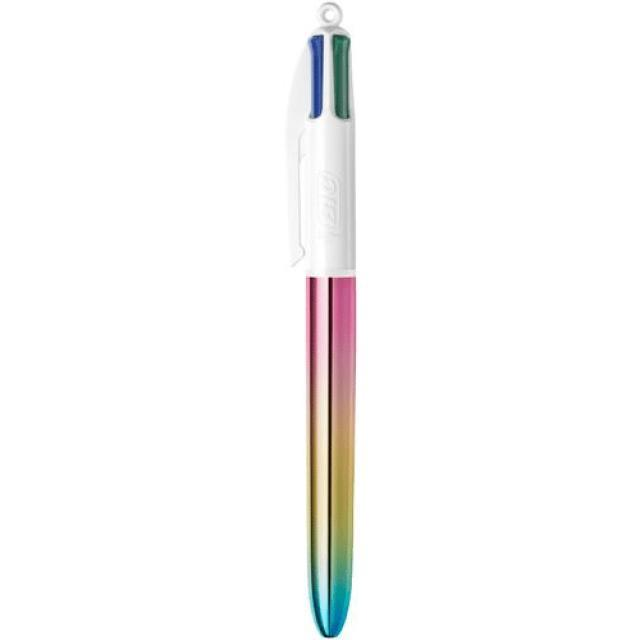pen: (288, 2, 356, 636)
